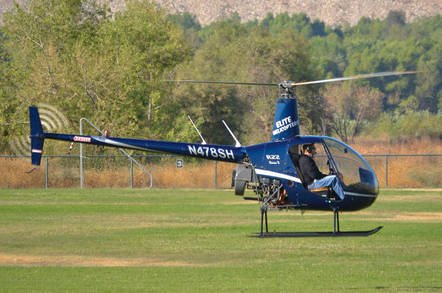Helicopter: (14, 68, 394, 222)
